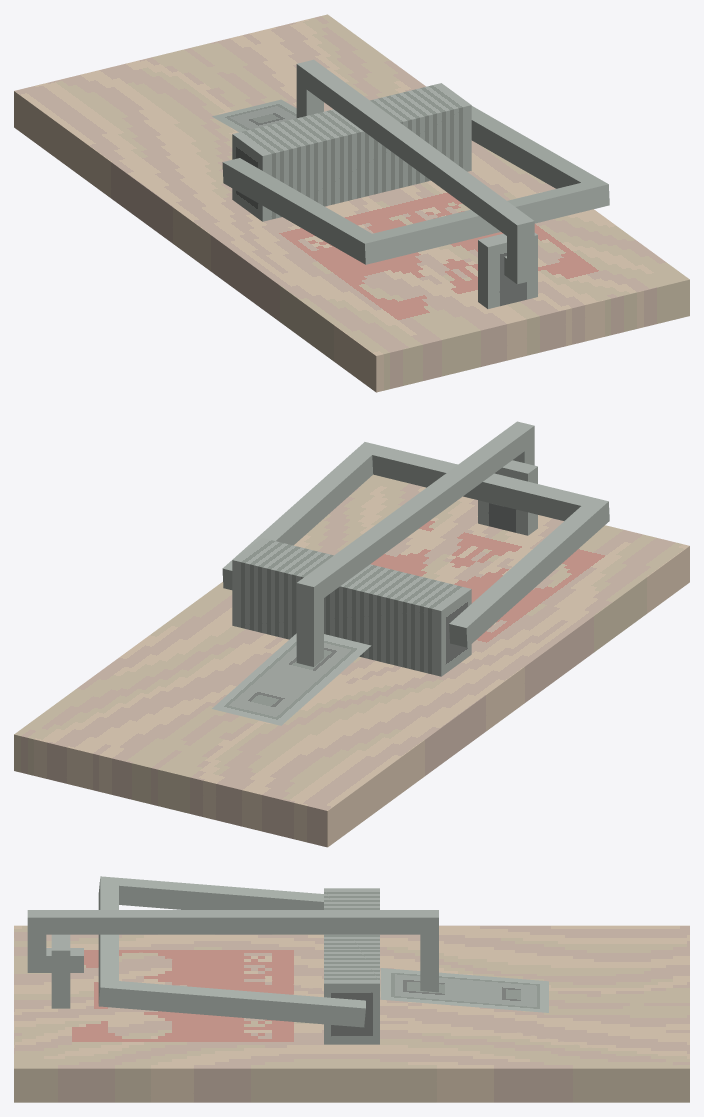
The model's file is 0019_Mousetrap.glb.
The picture shows the model from 3 angles, top to bottom: view 1: azimuth 30°, elevation 25°; view 2: azimuth 150°, elevation 25°; view 3: azimuth 270°, elevation 25°; orthographic projection. The views are drawn at different scales.
Parts seen in each view (by area): view 1: part_0, part_1, part_2; view 2: part_0, part_1, part_2; view 3: part_0, part_1, part_2.
Boxes of the visible parts, bbox=[...] form: part_0: bbox=[14, 14, 689, 392]; part_1: bbox=[222, 106, 609, 264]; part_2: bbox=[296, 59, 534, 284]; part_0: bbox=[14, 460, 689, 847]; part_1: bbox=[222, 442, 609, 647]; part_2: bbox=[296, 421, 534, 666]; part_0: bbox=[14, 888, 689, 1102]; part_1: bbox=[98, 876, 365, 1027]; part_2: bbox=[27, 910, 438, 992].
Bounding box in the file's own units: 0.09 × 0.0345 × 0.18.
Materials: 3 (3 with a texture image).
